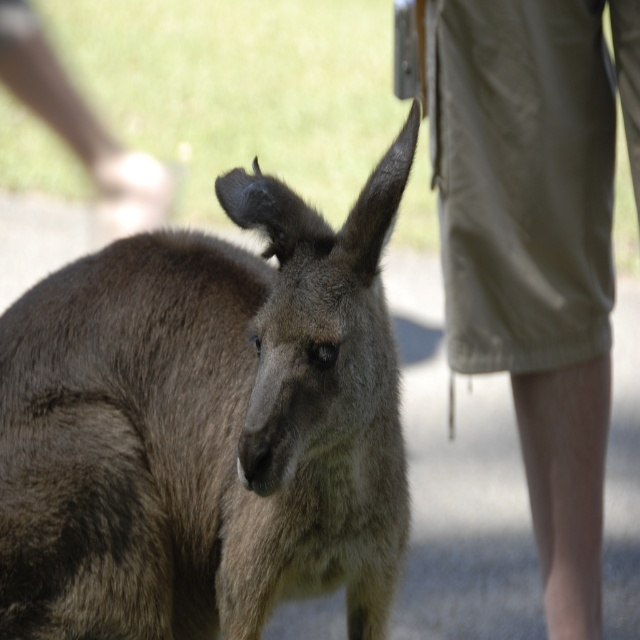Kangaroo: (0, 101, 420, 639)
